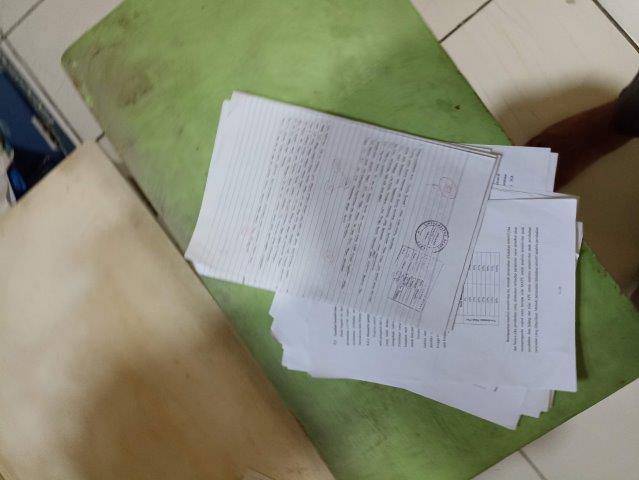kertas: (183, 90, 585, 430)
